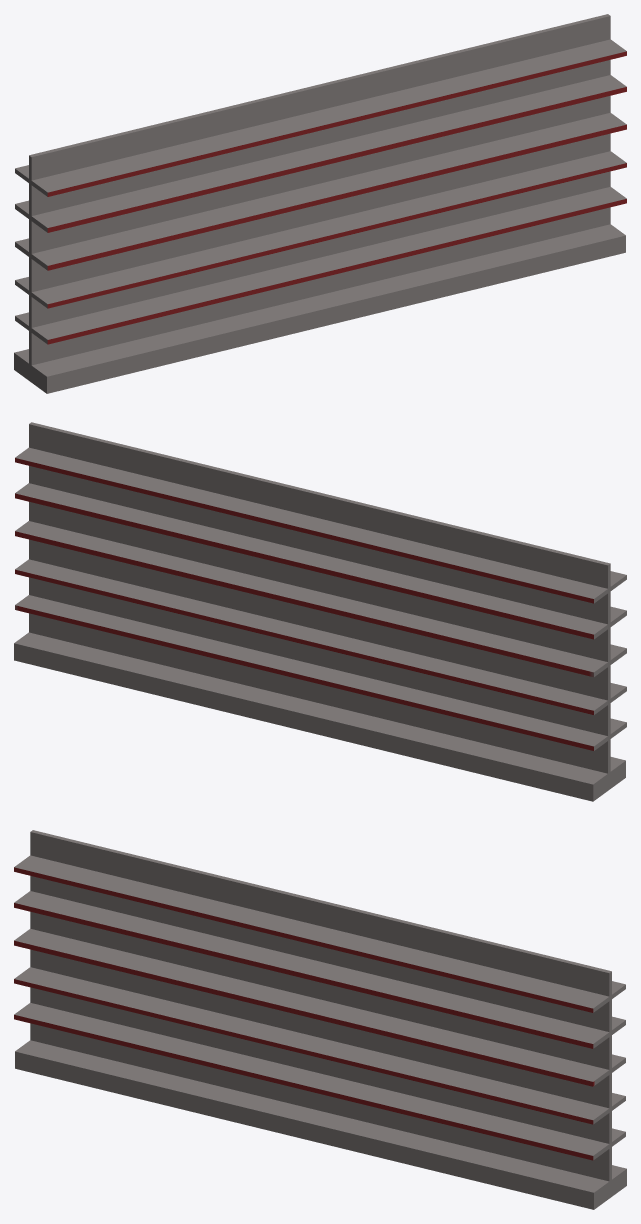
File: gondola-entera.glb
The picture shows the model from 3 angles, top to bottom: view 1: azimuth 30°, elevation 25°; view 2: azimuth 150°, elevation 25°; view 3: azimuth 330°, elevation 25°; orthographic projection.
Visible parts, largest first — view 1: gondola-entera; view 2: gondola-entera; view 3: gondola-entera.
Part boxes in pixels (x1,y1,x2,y2): gondola-entera: (14,14,626,393); gondola-entera: (14,422,626,801); gondola-entera: (14,830,626,1209).
Size of the model in its own units: 22.45 by 8.35 by 2.27.
Materials: 1 (1 with a texture image).
